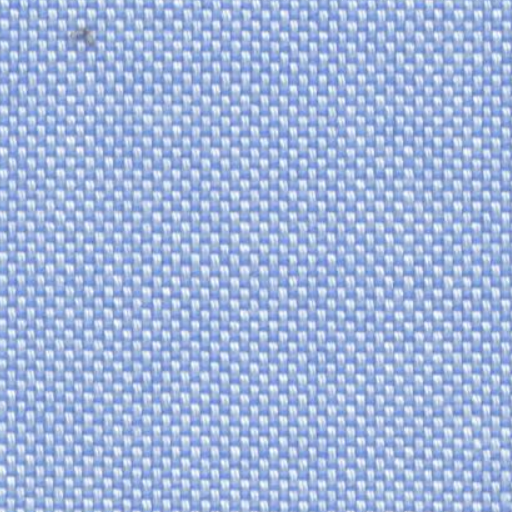WuZi: (58, 15, 114, 58)
